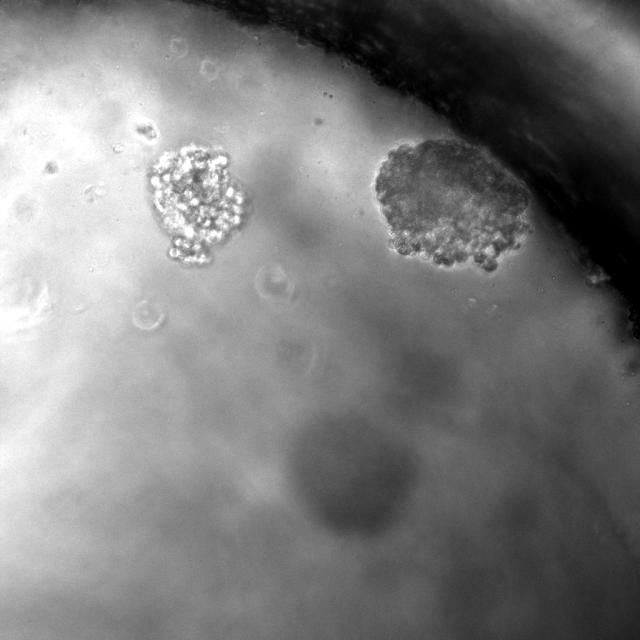organoid: (376, 138, 529, 272), (149, 145, 246, 264)
